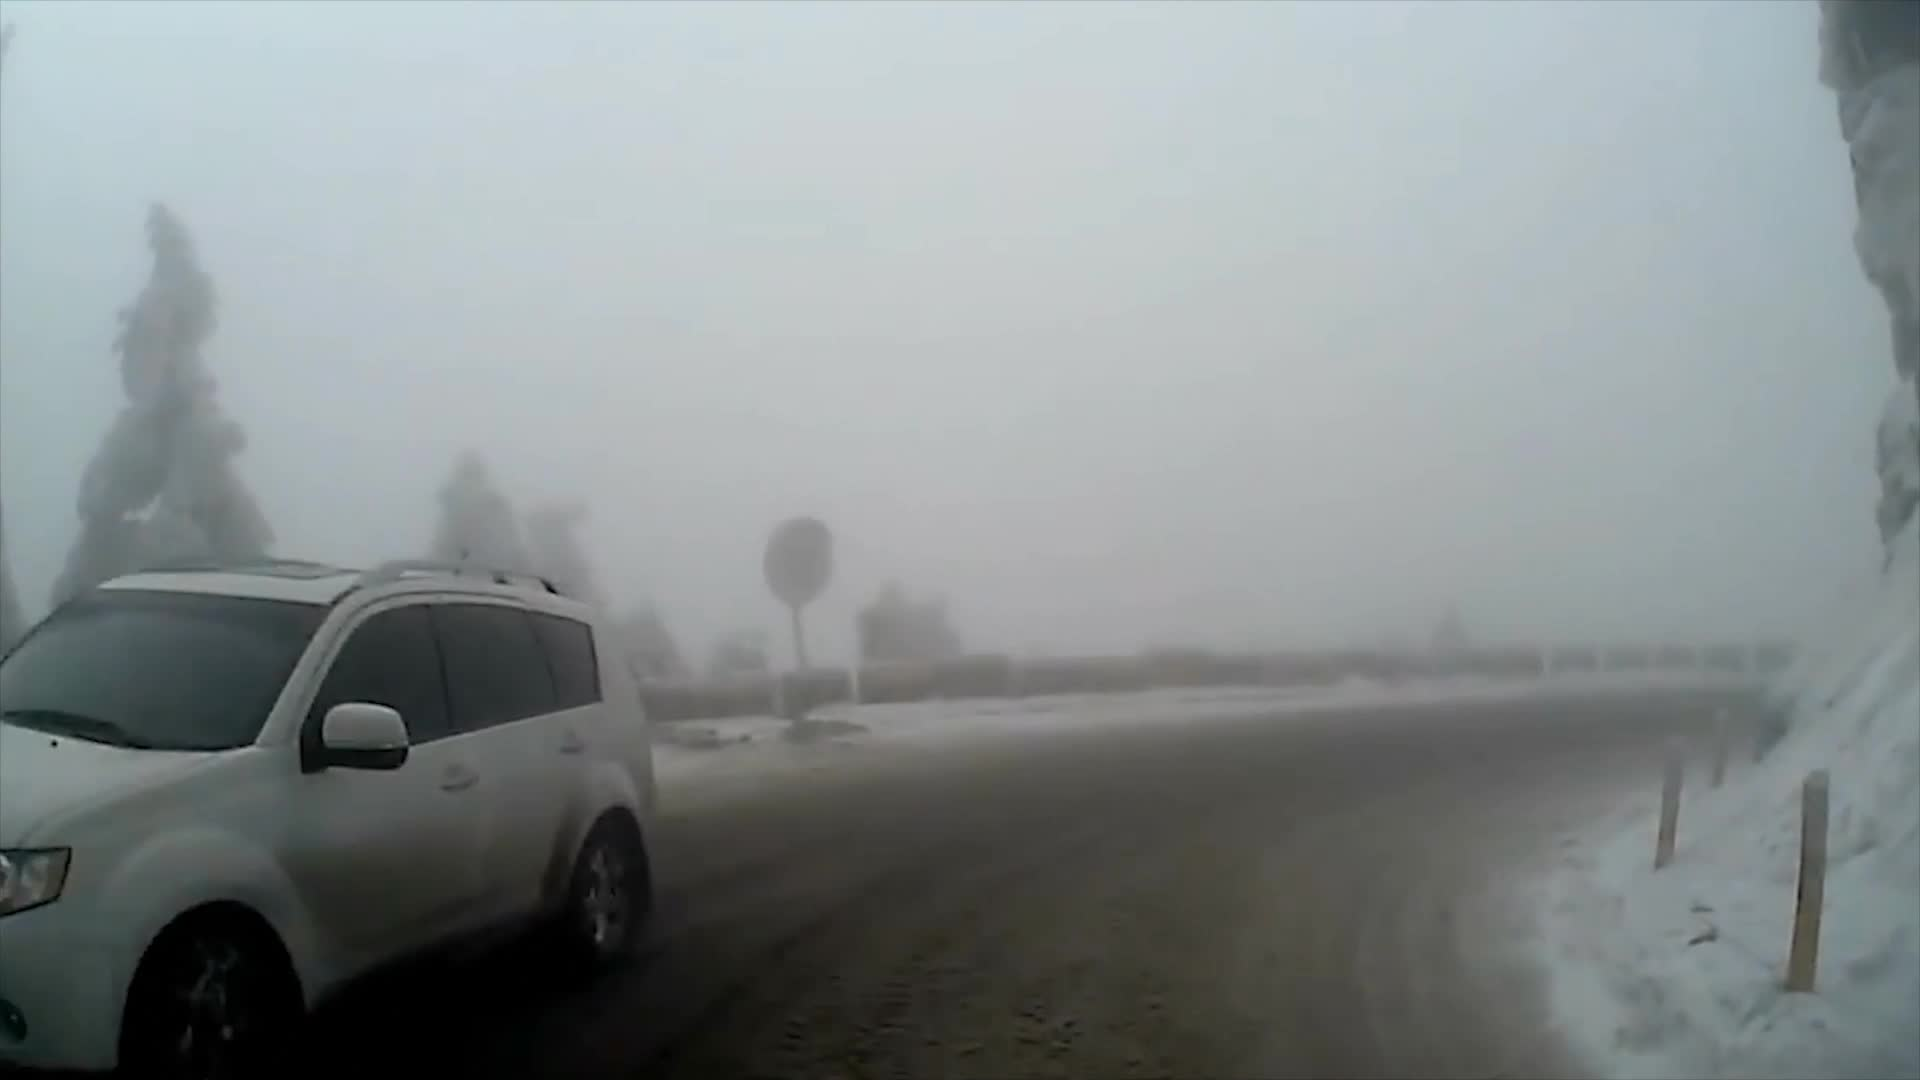vehicle: (0, 550, 661, 1080)
